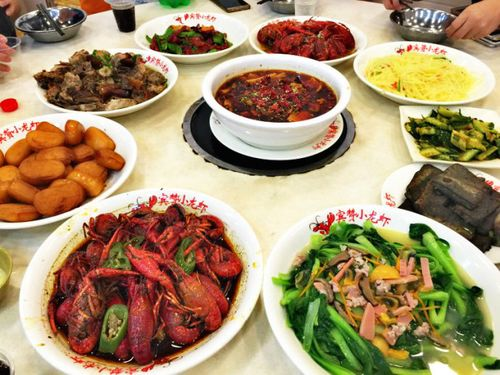food: (35, 181, 262, 370), (265, 198, 487, 359), (196, 46, 355, 155), (0, 105, 136, 229), (286, 202, 466, 285), (30, 39, 178, 117), (357, 35, 491, 108), (141, 6, 247, 64), (255, 13, 365, 68), (401, 103, 499, 163)
